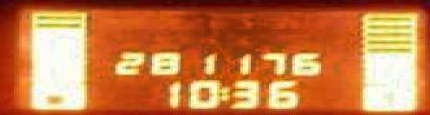0: (186, 78, 217, 109)
1: (162, 78, 180, 108), (235, 50, 250, 75), (201, 50, 216, 75)
2: (110, 49, 144, 75)
3: (227, 79, 258, 109)
6: (263, 79, 297, 109), (287, 50, 318, 76)
7: (258, 50, 284, 75)
8: (146, 50, 180, 75)
X: (216, 85, 227, 100)
